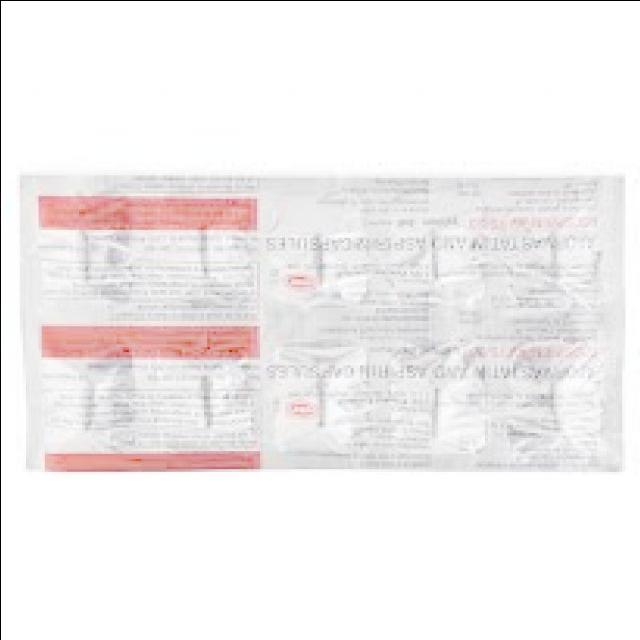authentic: (12, 165, 634, 479)
